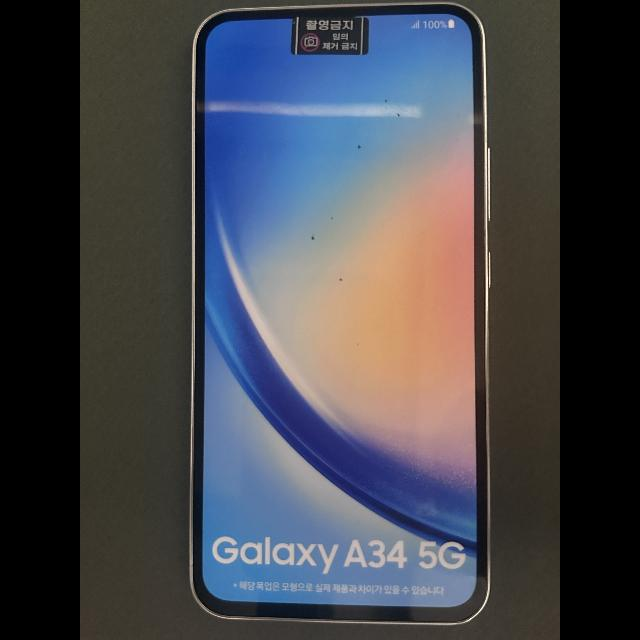phone: (190, 3, 491, 624)
sticker: (291, 16, 369, 55)
